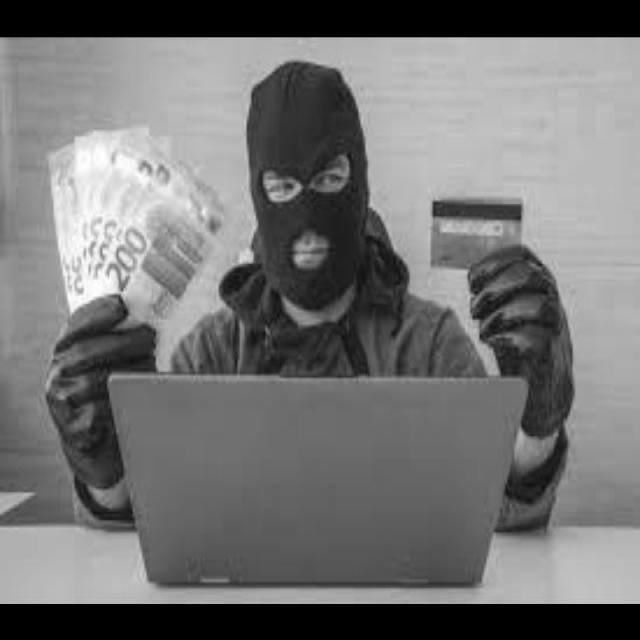6_pasamontana: (246, 60, 371, 313)
